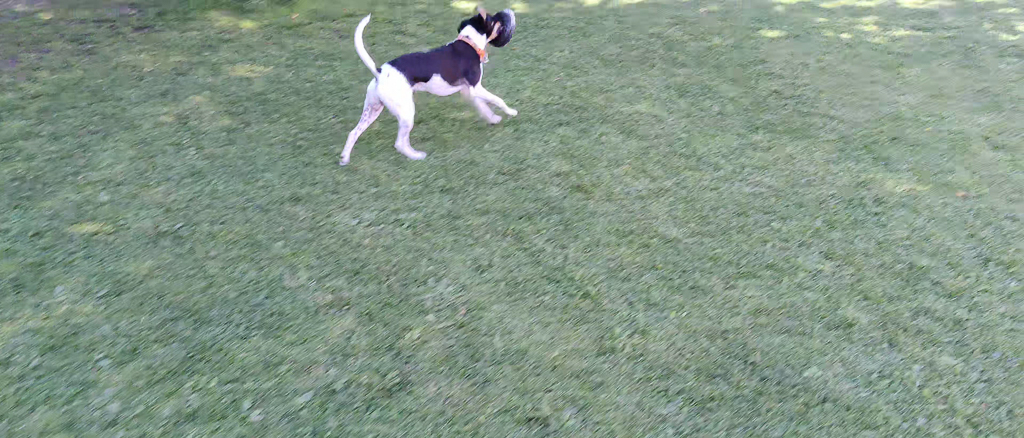Dog: (335, 3, 526, 170)
